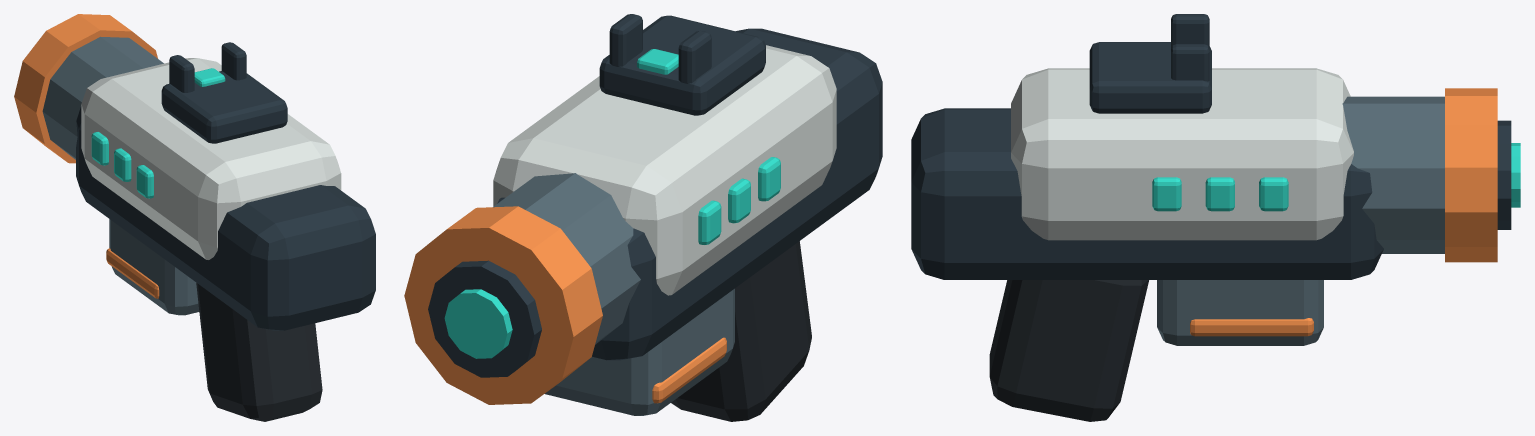
The picture shows the model from 3 angles, left to right: view 1: azimuth 30°, elevation 25°; view 2: azimuth 150°, elevation 25°; view 3: azimuth 270°, elevation 25°; orthographic projection. The views are drawn at different scales.
Parts seen in each view (by area): view 1: Blaster; view 2: Blaster; view 3: Blaster.
Boxes of the visible parts, bbox=[...] form: Blaster: bbox=[14, 14, 375, 421]; Blaster: bbox=[404, 14, 882, 421]; Blaster: bbox=[911, 14, 1520, 421].
Size of the model in its own units: 0.271 by 0.541 by 0.7875.
